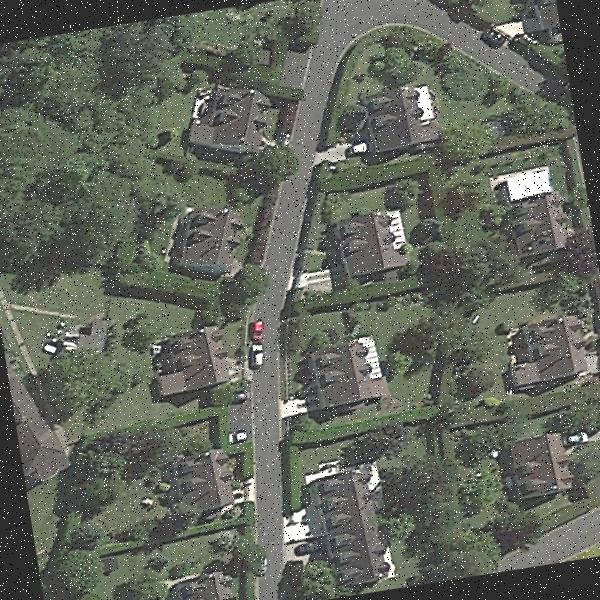Buildings: (320, 467, 392, 591), (498, 312, 584, 390), (194, 82, 278, 160), (8, 373, 62, 482), (173, 202, 242, 282), (312, 344, 386, 414), (158, 331, 230, 398), (339, 213, 408, 282), (512, 176, 570, 254), (365, 84, 435, 148), (172, 452, 238, 514), (507, 430, 568, 494), (526, 0, 563, 52), (181, 568, 240, 600), (74, 312, 105, 346)
